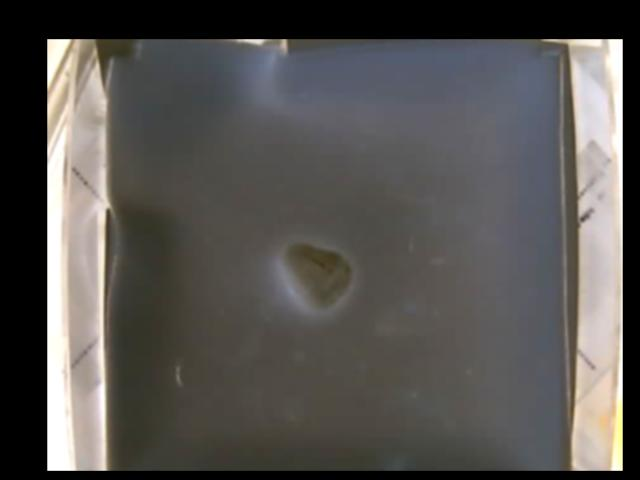Pebble: (280, 243, 353, 313)
